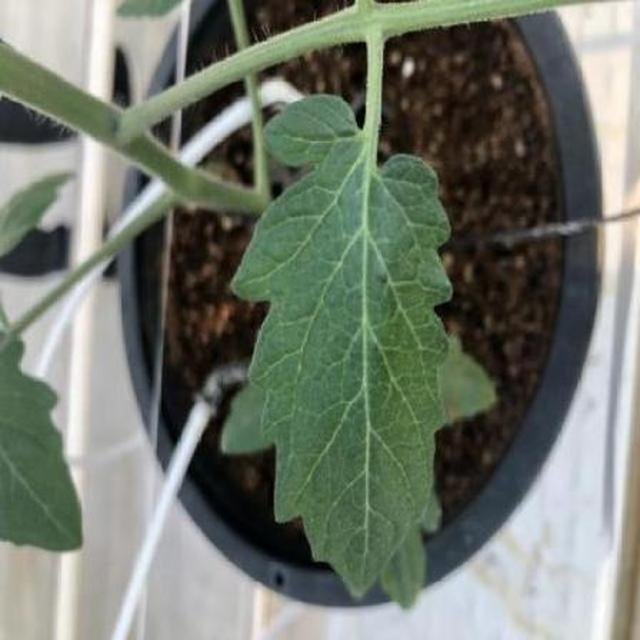Healthy Leaf: (332, 171, 640, 640)
